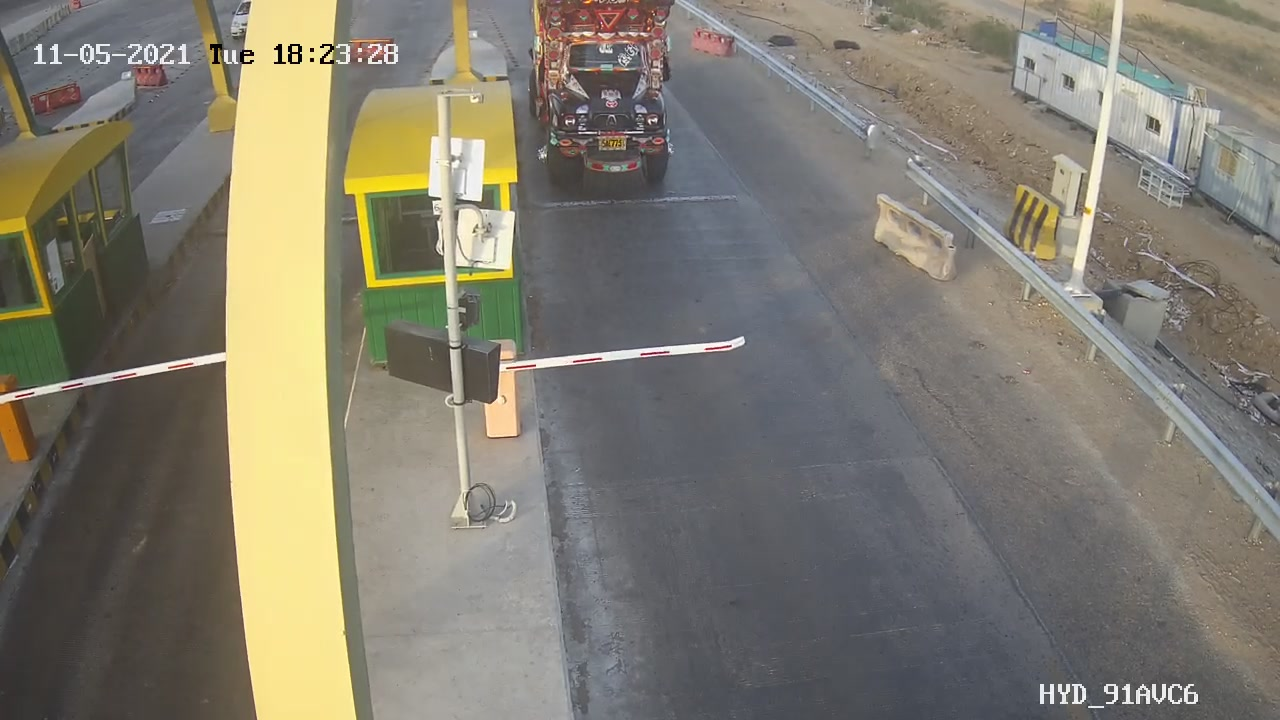F5: (526, 5, 687, 195)
